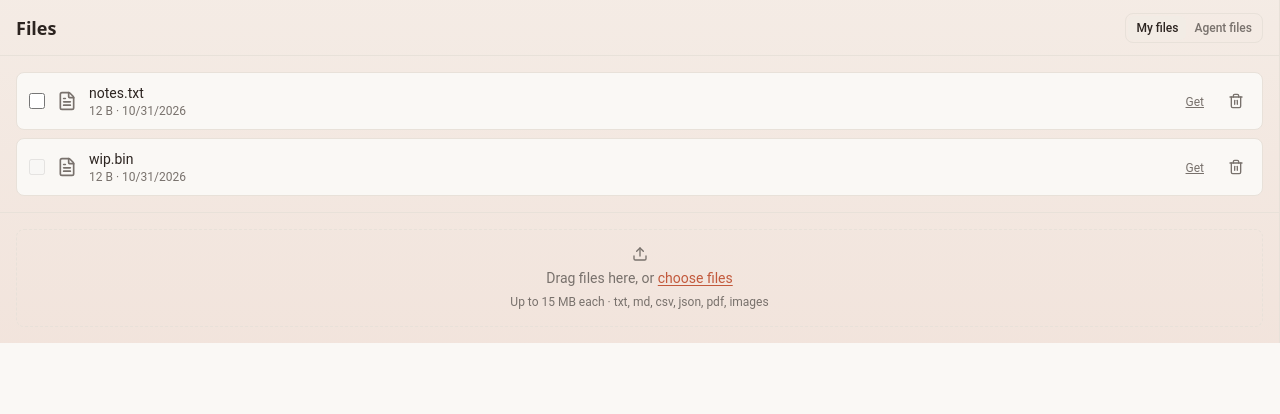
Test: AssetLibrary — batch delete (issue #69 × #59) › arms an inline confirm strip and deletes the selection with Yes
Check: the text "notes.txt" is shown, box [89,85,144,101]
Click the checkbox named "Select notes.txt" at (37, 101), box [29,93,45,109]
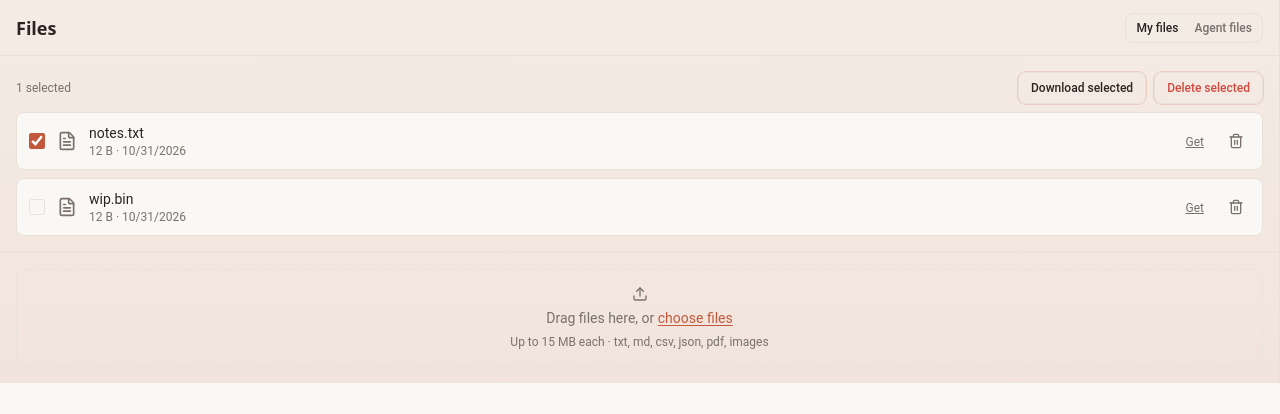
Click the button with test id "asset-bulk-delete" at (1209, 88), box [1154,72,1263,104]
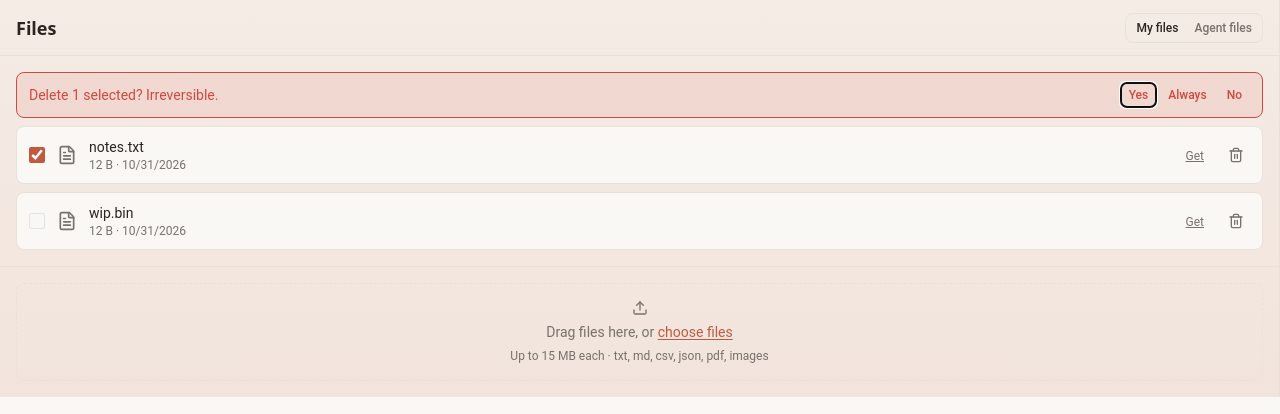
Check: the text "Delete 1 selected? Irreversible." is shown, box [29,87,218,103]
Click the button with test id "confirm-yes" at (1138, 95), box [1121,83,1156,107]
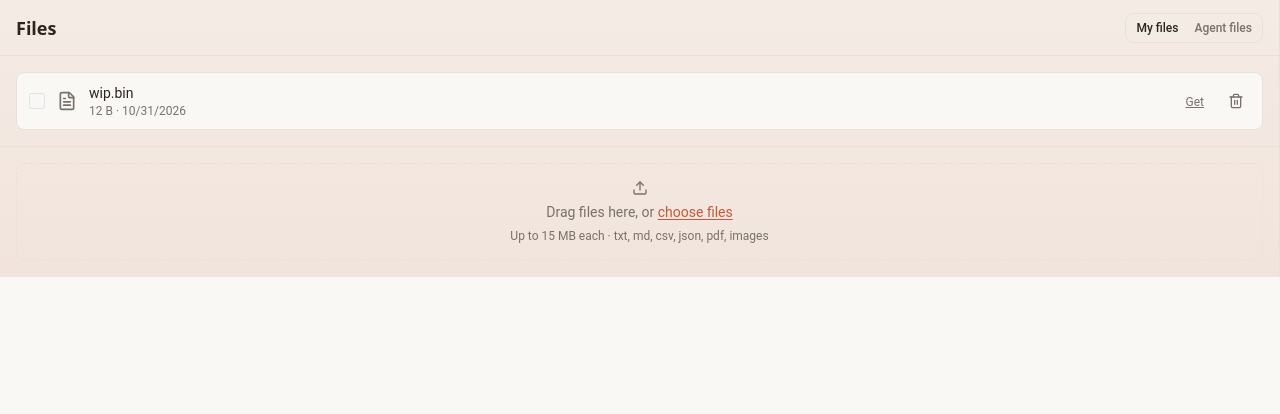
Check: the text "Delete 1 selected" is gone
Check: the button "notes.txt" is gone
